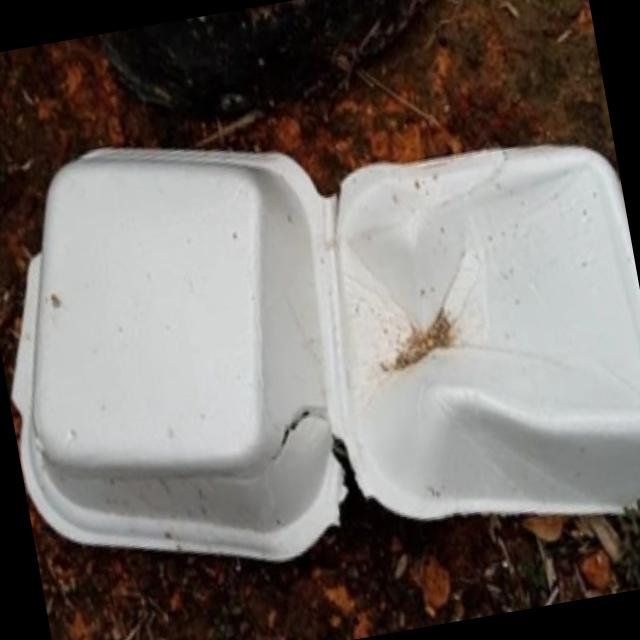electronic: (0, 55, 640, 618)
